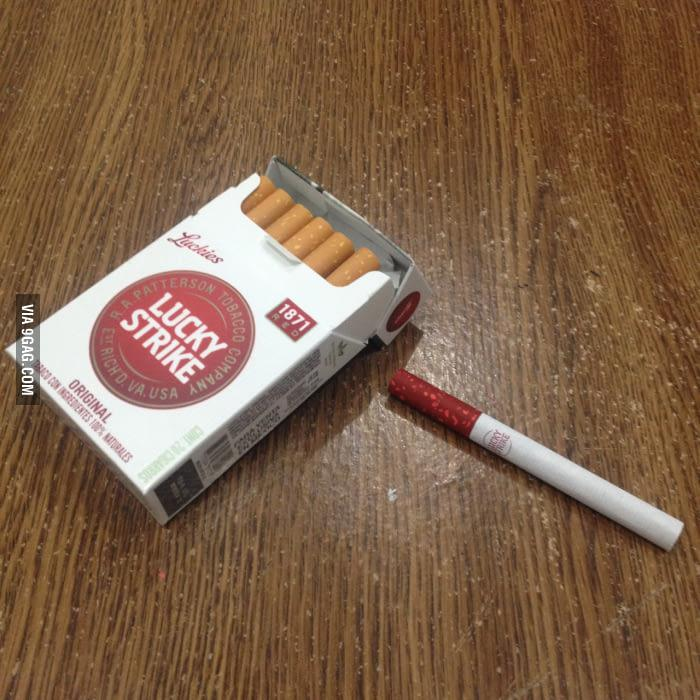lucky_strike_red: (80, 218, 309, 451)
